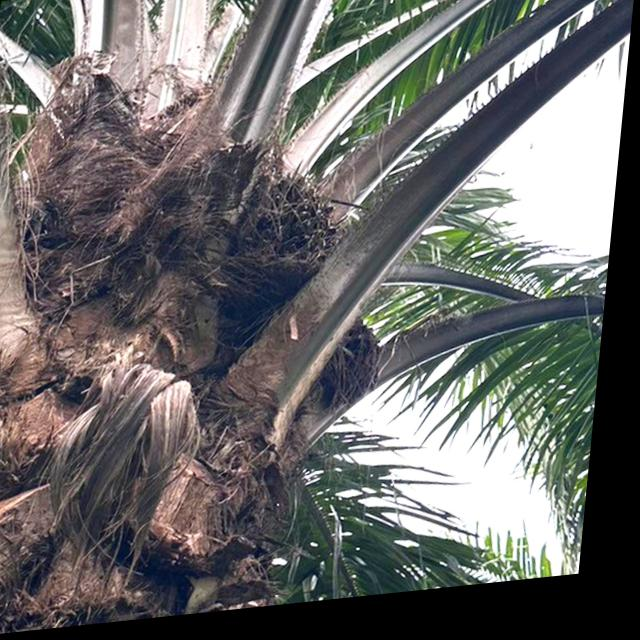unripe: (219, 157, 355, 341)
